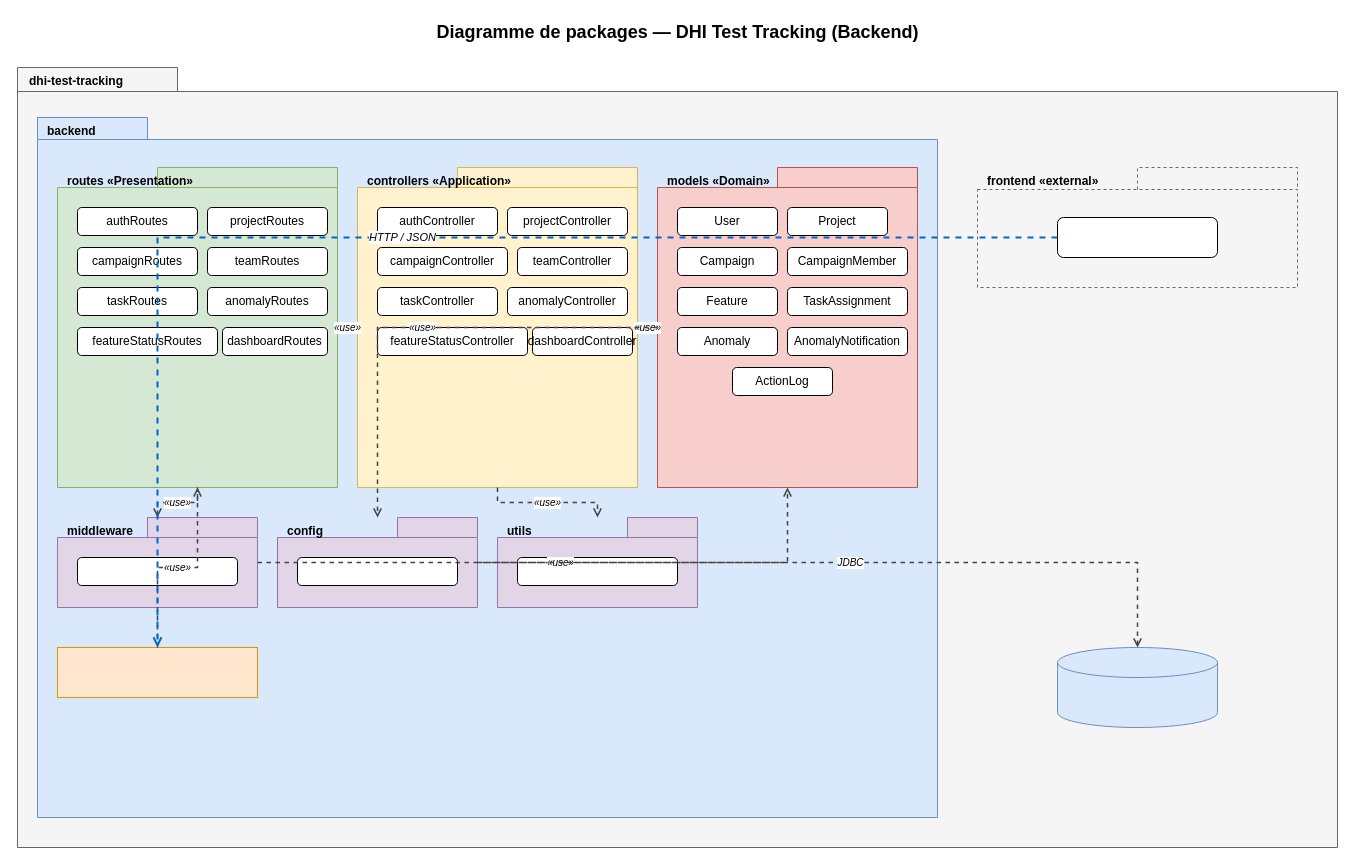
The diagram is 1355 pixels wide and 865 high, and some of its shapes have lost their labels. The shapes that lost their labels are listed below. From the top down, each one's centre as x and y in pixels, then its label:
At point 1137,237: "Client React".
At point 157,571: "auth.js".
At point 377,571: "database.js".
At point 597,571: "helpers".
At point 157,672: "server.js «entrypoint»".
At point 1137,687: "PostgreSQL".
